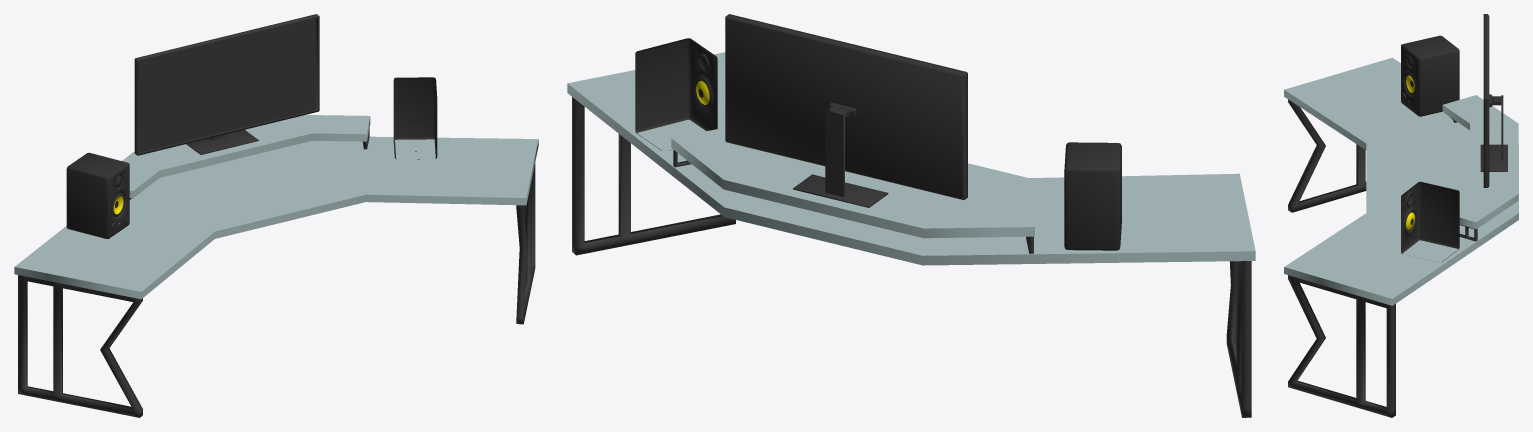
Rendered from DeskLarge.gltf.
The picture shows the model from 3 angles, left to right: view 1: azimuth 30°, elevation 25°; view 2: azimuth 150°, elevation 25°; view 3: azimuth 270°, elevation 25°; orthographic projection. The views are drawn at different scales.
Visible parts, largest first — view 1: Desk, Monitor, Speakers; view 2: Desk, Monitor, Speakers; view 3: Desk, Speakers, Monitor.
Boxes of the visible parts, x1=… form: Desk: x1=14, y1=115, x2=538, y2=417; Monitor: x1=134, y1=14, x2=319, y2=155; Speakers: x1=66, y1=77, x2=437, y2=238; Desk: x1=567, y1=52, x2=1255, y2=417; Monitor: x1=725, y1=14, x2=967, y2=207; Speakers: x1=635, y1=38, x2=1121, y2=250; Desk: x1=1284, y1=57, x2=1518, y2=417; Speakers: x1=1401, y1=35, x2=1459, y2=261; Monitor: x1=1480, y1=14, x2=1507, y2=187.
Bounding box in the file's own units: 17.74 × 8.33 × 7.29.
4 materials, 3 textured.
